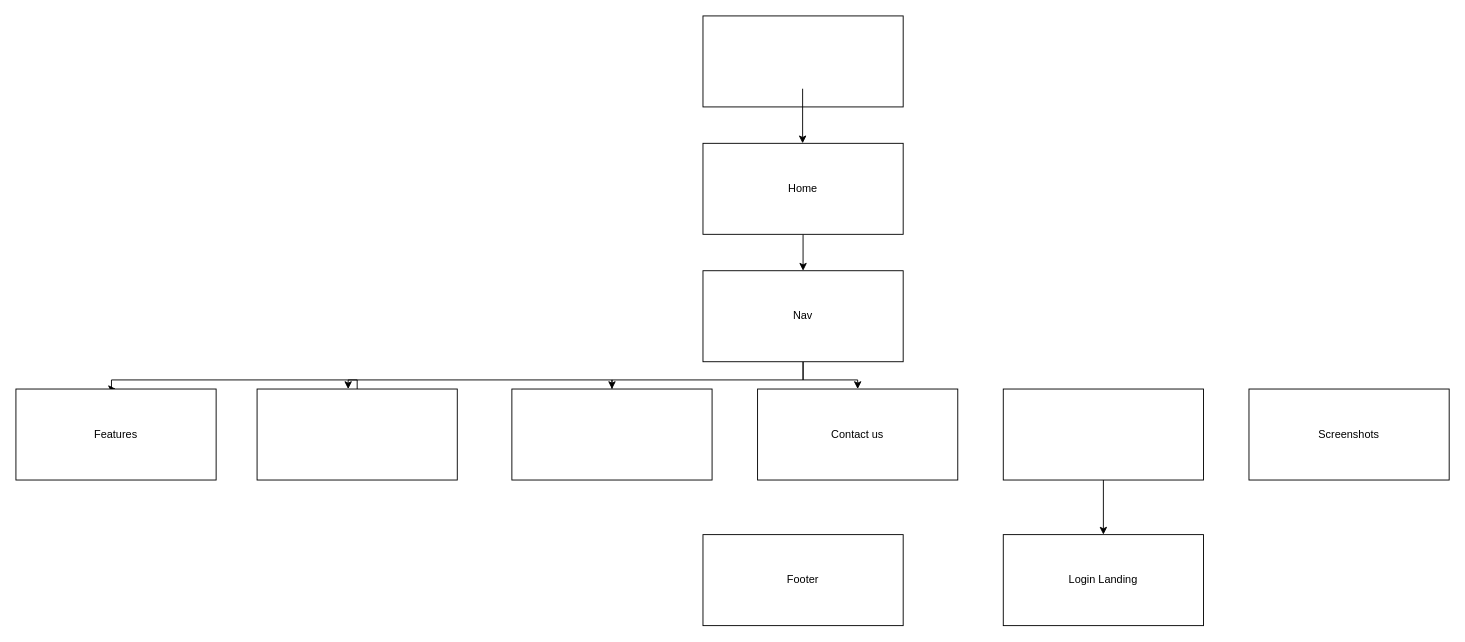
The diagram is 1465 pixels wide and 642 high, and some of its shapes have lost their labels. Each missing label, with the centre of its shape:
"About Us" goes at [356,434].
"App" goes at [802,61].
"Login" goes at [1102,434].
"Pricing" goes at [611,434].
